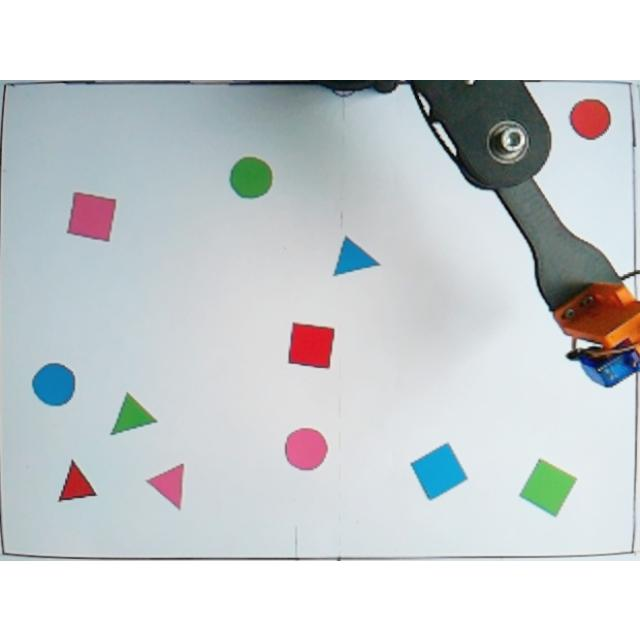blueCircle: (28, 357, 78, 409)
blueSquare: (409, 440, 469, 500)
blueTriangle: (330, 232, 382, 278)
greenCircle: (227, 154, 276, 198)
greenSquare: (516, 457, 578, 518)
greenTriangle: (108, 388, 160, 438)
pinkCircle: (284, 426, 328, 472)
pinkSquare: (64, 189, 120, 243)
pinkTriangle: (144, 456, 190, 512)
redCircle: (568, 92, 616, 142)
redSquare: (284, 319, 338, 371)
redTriangle: (52, 456, 98, 504)
